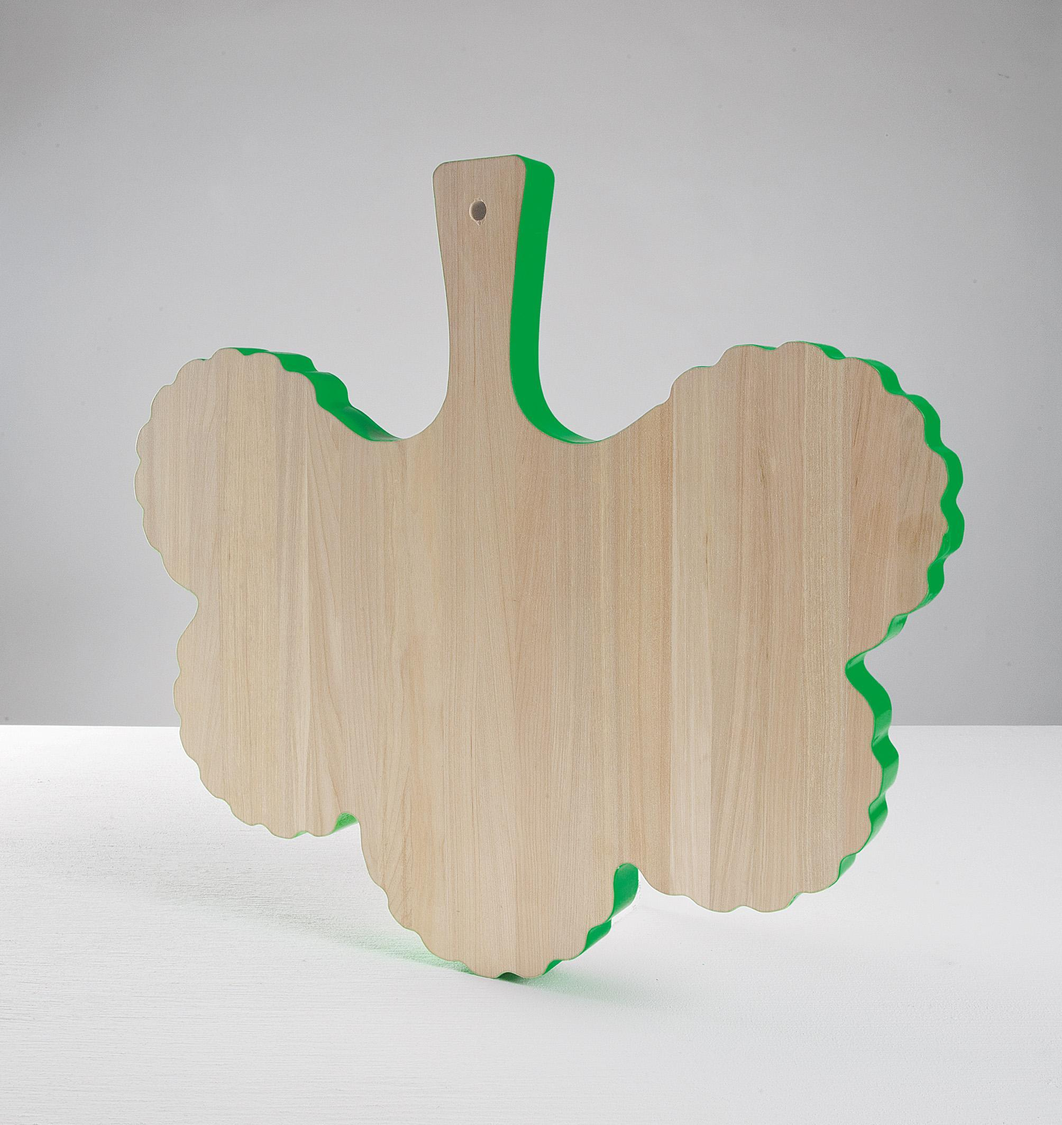gloved_hand: (114, 141, 977, 1001)
